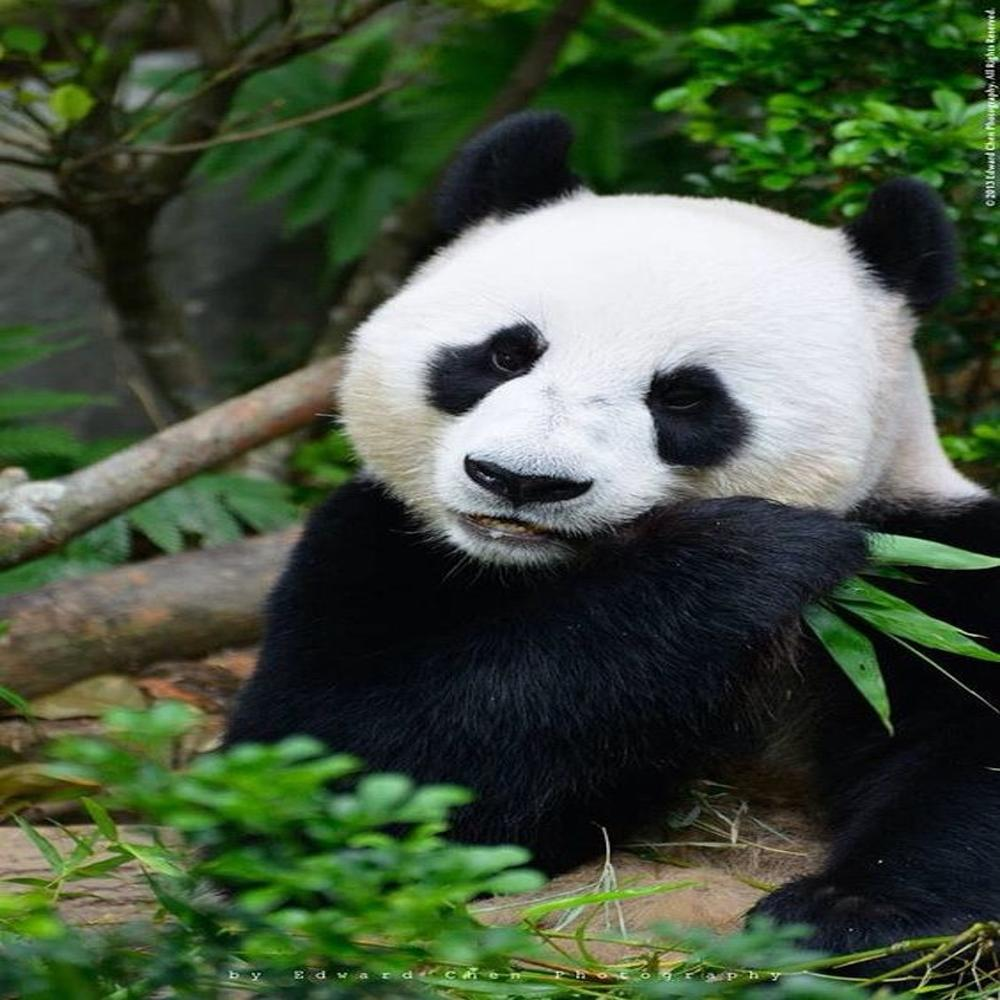panda: (260, 116, 1000, 937)
